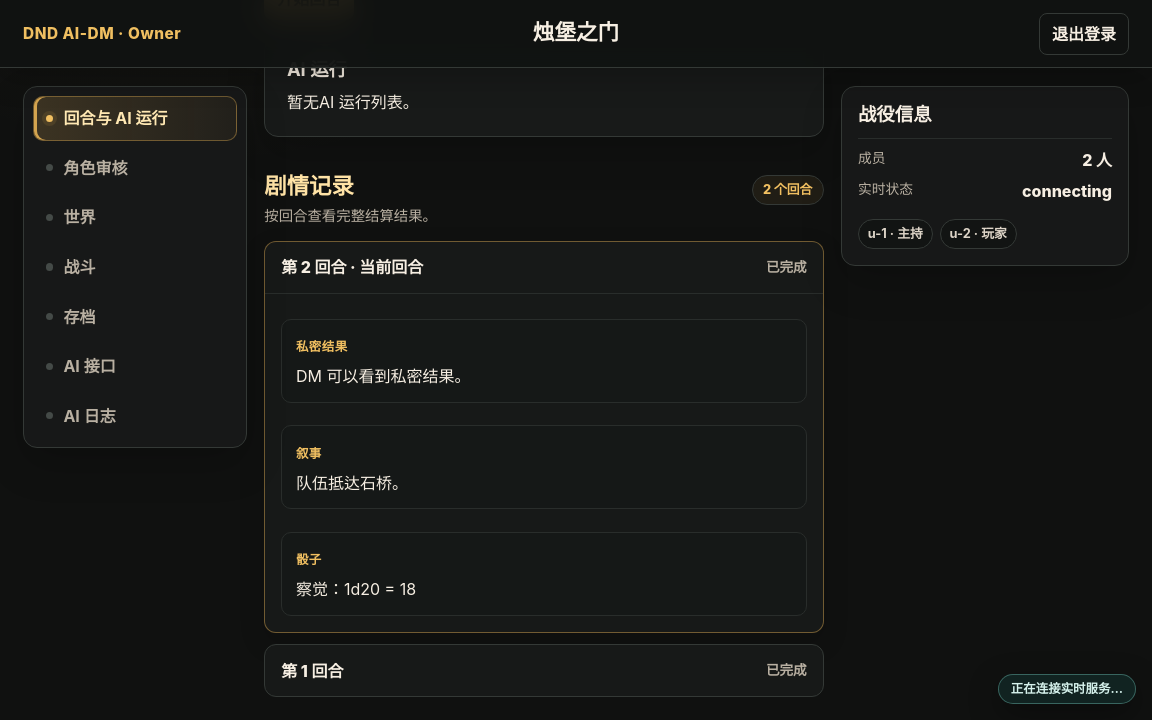
DM 剧情 › 直接显示当前回合剧情，并可展开上一回合历史
(page scrolled)
Expected: the text "DM 可以看到私密结果。" is shown, x1=296 y1=366 x2=470 y2=386
Expected: the text "队伍抵达石桥。" is shown, x1=296 y1=473 x2=408 y2=493
Click the button "第 1 回合 已完成" at (326, 671), box x1=265 y1=645 x2=823 y2=696
(page scrolled)
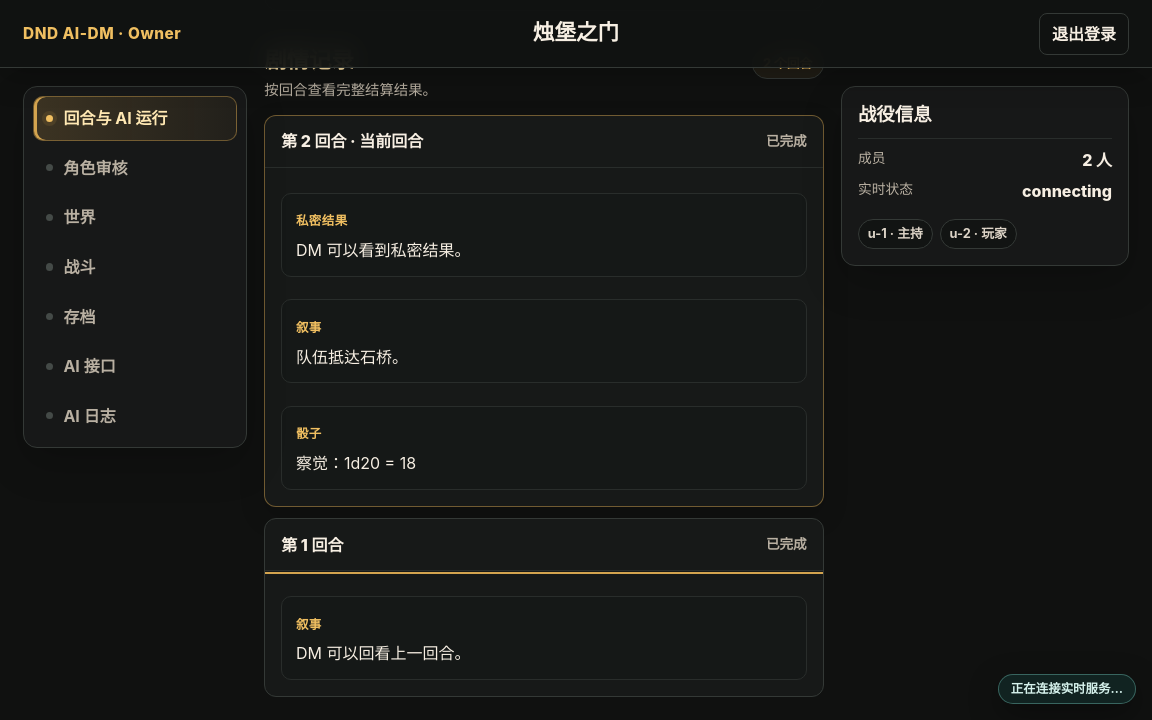
Expected: the text "DM 可以回看上一回合。" is shown, x1=296 y1=644 x2=470 y2=664
